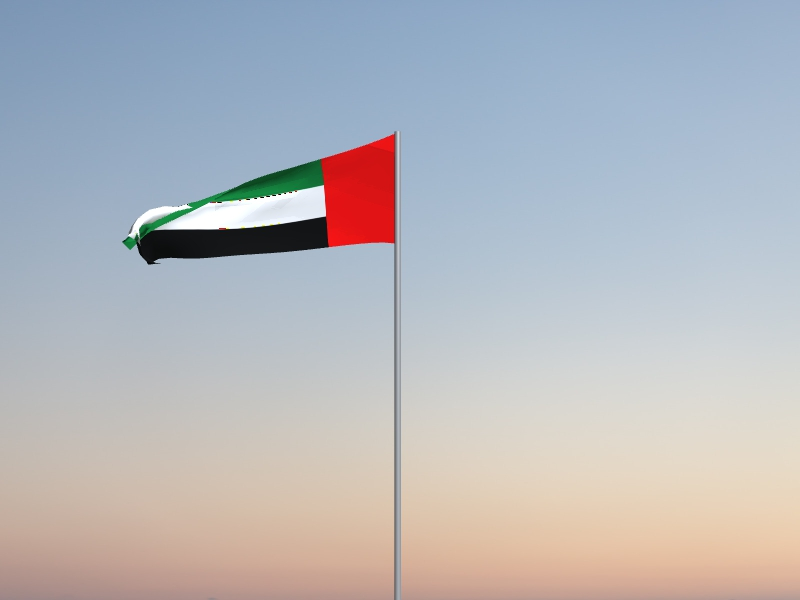ae: (121, 132, 396, 266)
